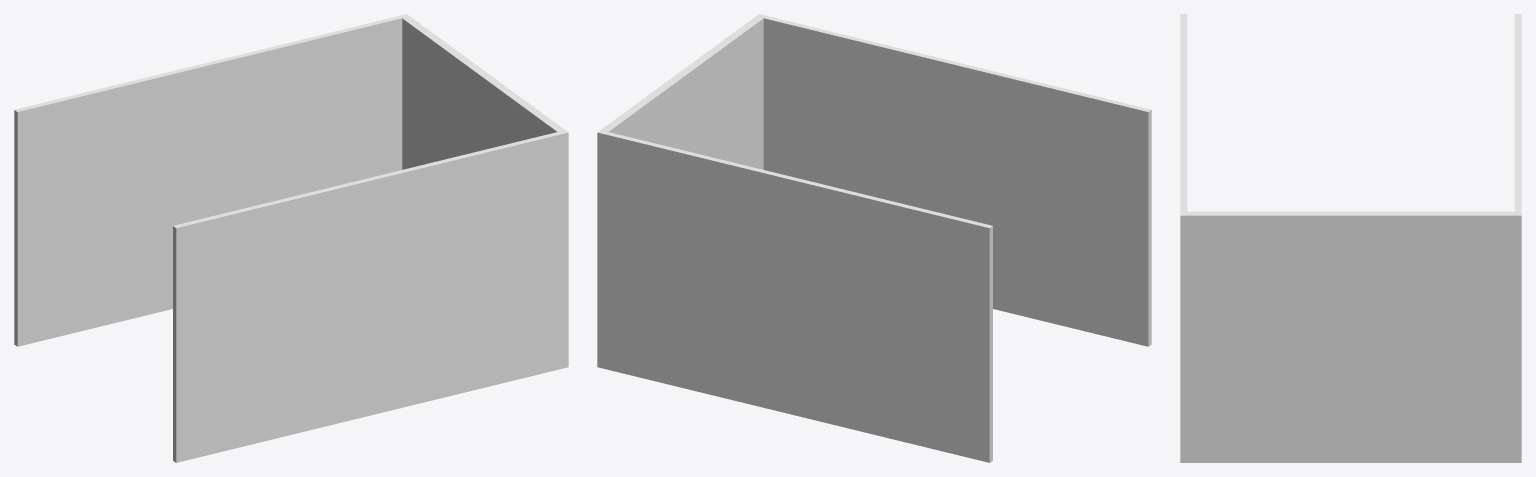
Rendered from walls.dae.
3 views of the same model, side by side, from view 1: azimuth 30°, elevation 25°; view 2: azimuth 150°, elevation 25°; view 3: azimuth 270°, elevation 25° (orthographic). The views are drawn at different scales.
Visible parts, largest first — view 1: Cube; view 2: Cube; view 3: Cube.
Part boxes in pixels (box(x1,y1,x2,y2)): Cube: box(14, 14, 568, 462); Cube: box(597, 14, 1151, 462); Cube: box(1180, 14, 1521, 462).
Size of the model in its own units: 14 by 10 by 8.
1 material, 1 textured.
